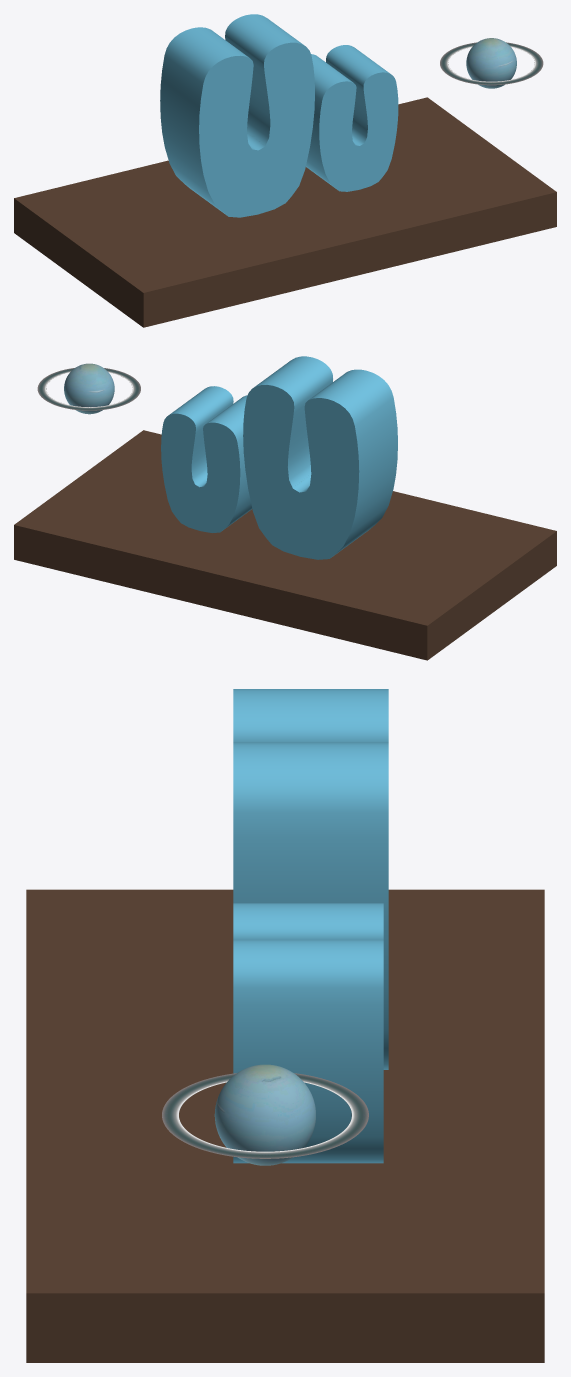
File: Uu_urano_final.fbx
3 renders of one model, top to bottom at view 1: azimuth 30°, elevation 25°; view 2: azimuth 150°, elevation 25°; view 3: azimuth 270°, elevation 25°, orthographic. The views are drawn at different scales.
Parts seen in each view (by area): view 1: root.001, node_id120, node_id130, node_id34, node_id36; view 2: root.001, node_id120, node_id130, node_id34, node_id36; view 3: root.001, node_id120, node_id130, node_id34, node_id36.
Part boxes in pixels (x1,y1,x2,y2): root.001: (14, 97, 556, 327); node_id120: (160, 14, 314, 217); node_id130: (306, 45, 398, 191); node_id34: (466, 38, 516, 88); node_id36: (440, 42, 543, 85); root.001: (14, 430, 556, 660); node_id120: (243, 356, 397, 559); node_id130: (161, 386, 252, 532); node_id34: (64, 363, 114, 414); node_id36: (37, 368, 140, 410); root.001: (26, 889, 544, 1362); node_id120: (233, 689, 388, 1069); node_id130: (233, 903, 383, 1163); node_id34: (214, 1064, 315, 1165); node_id36: (162, 1073, 368, 1158).
Size of the model in its own units: 776 by 326 by 384.
